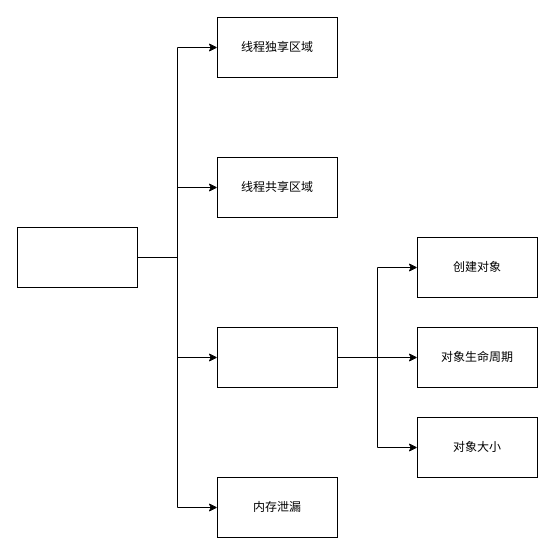
Some shapes in this 555 by 555 pixel diagram are drawn without their labels. Here are the shapes that lost their labels. From the top down, the centre of each, then its label:
the point at 77,257: 运行时数据区
the point at 277,357: 内存中对象
